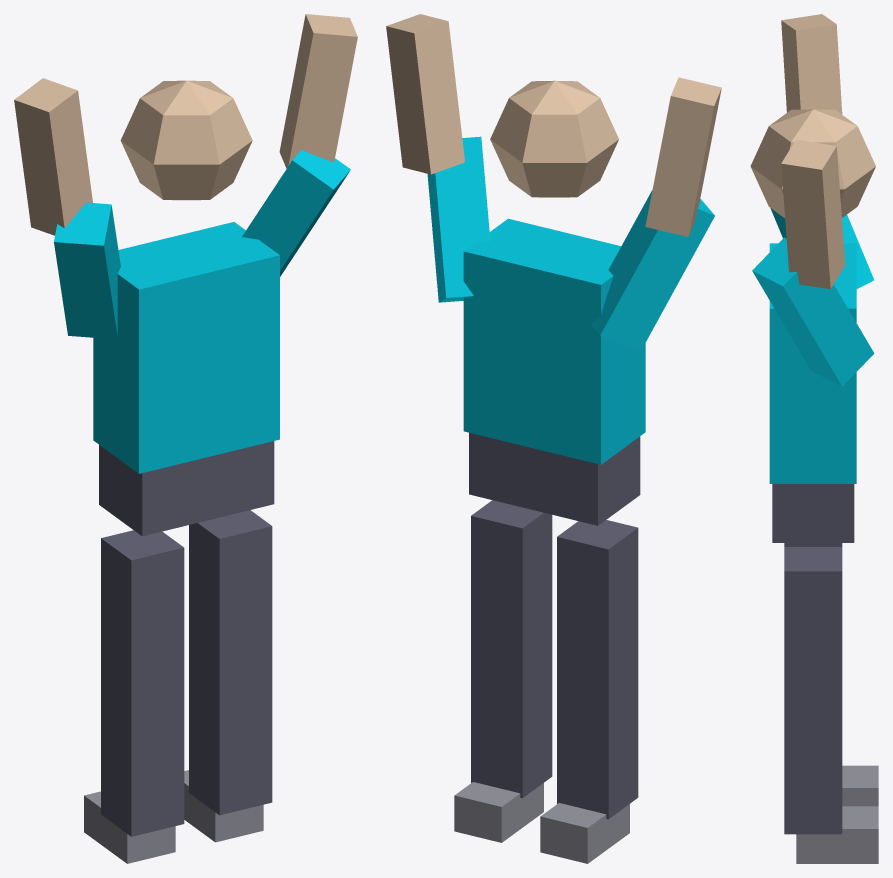
File: espectador_brazos_arriba.glb
The picture shows the model from 3 angles, left to right: view 1: azimuth 30°, elevation 25°; view 2: azimuth 150°, elevation 25°; view 3: azimuth 270°, elevation 25°; orthographic projection. The views are drawn at different scales.
Parts seen in each view (by area): view 1: espectador_brazos_arriba; view 2: espectador_brazos_arriba; view 3: espectador_brazos_arriba.
Boxes of the visible parts, x1,y1,x2,y2 form: espectador_brazos_arriba: (14, 14, 357, 863); espectador_brazos_arriba: (386, 14, 721, 863); espectador_brazos_arriba: (750, 14, 878, 863).
Size of the model in its own units: 0.763 by 1.71 by 0.265.
